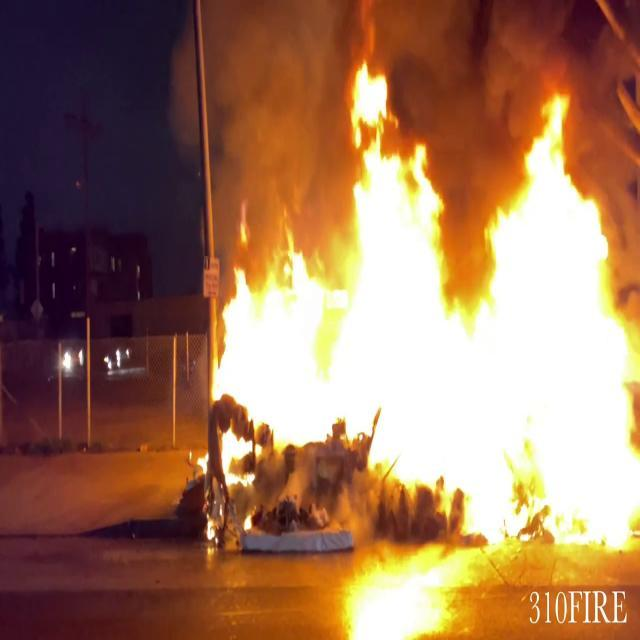Fire: (207, 56, 640, 553)
Smoke: (165, 0, 349, 223)
